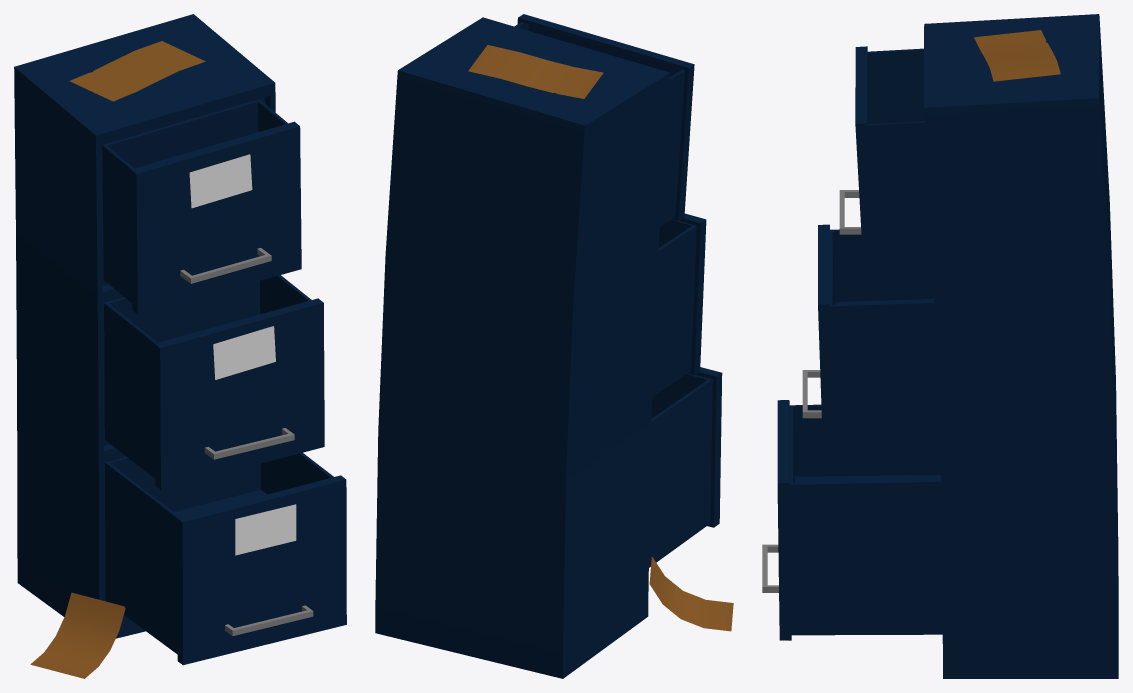
Rendered from ArchiveroAbierto.FBX.
The picture shows the model from 3 angles, left to right: view 1: azimuth 30°, elevation 25°; view 2: azimuth 150°, elevation 25°; view 3: azimuth 270°, elevation 25°; orthographic projection. The views are drawn at different scales.
Visible parts, largest first — view 1: ArchiveroAbierto; view 2: ArchiveroAbierto; view 3: ArchiveroAbierto.
Boxes of the visible parts, x1,y1,x2,y2 form: ArchiveroAbierto: [14, 14, 346, 678]; ArchiveroAbierto: [375, 14, 733, 678]; ArchiveroAbierto: [762, 14, 1118, 678].
Bounding box in the file's own units: 92.92 × 187 × 105.
